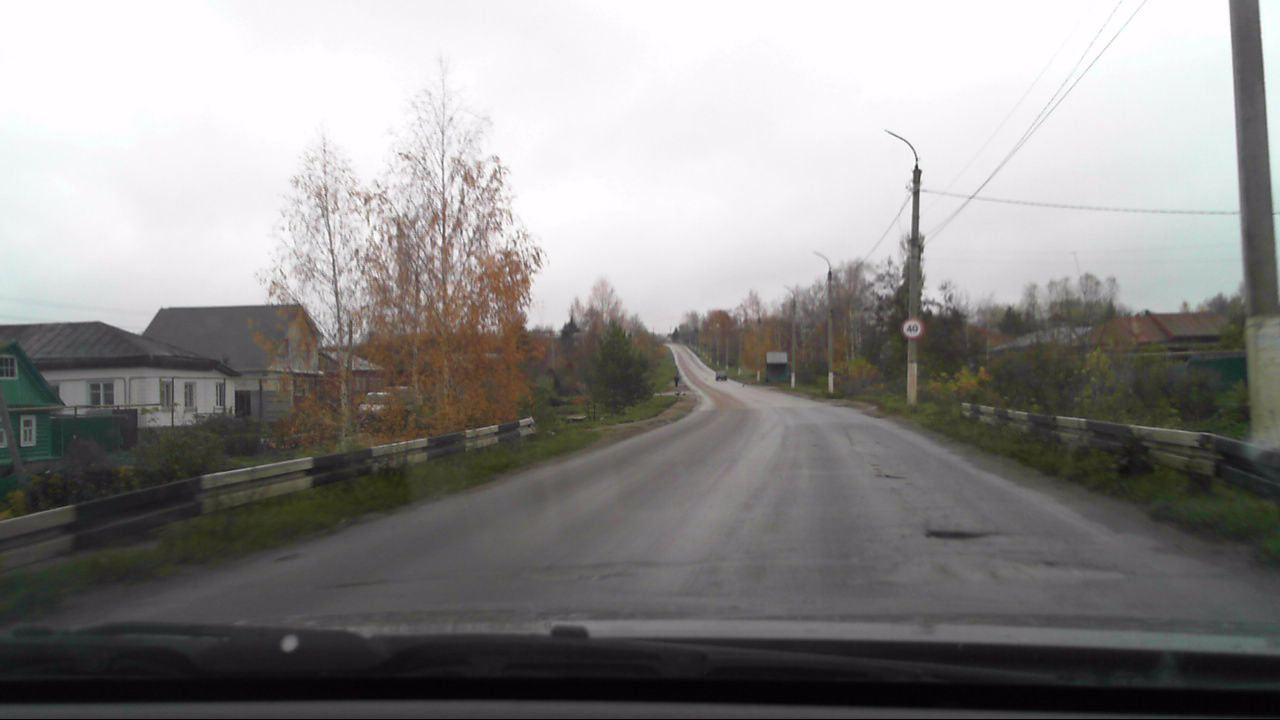speed_warning_40: (900, 318, 924, 341)
